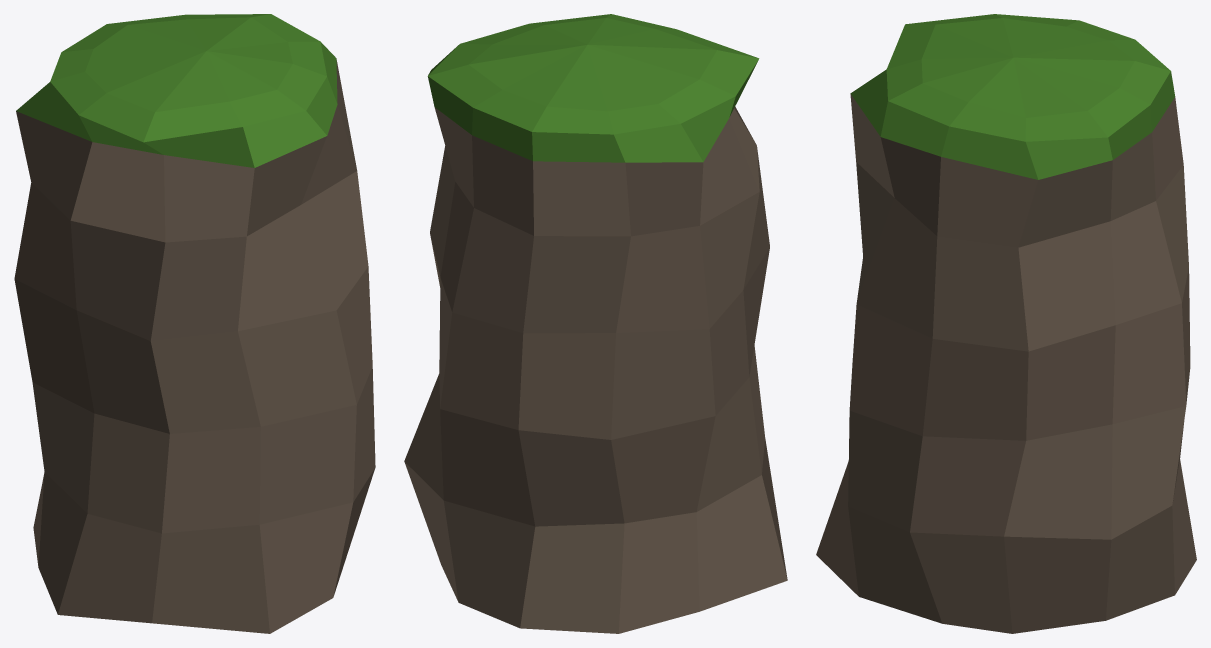
The model's file is cliff.fbx.
The picture shows the model from 3 angles, left to right: view 1: azimuth 30°, elevation 25°; view 2: azimuth 150°, elevation 25°; view 3: azimuth 270°, elevation 25°; orthographic projection.
Visible parts, largest first — view 1: Cliff; view 2: Cliff; view 3: Cliff.
Boxes of the visible parts, <box> form: Cliff: <box>14,14,375,633</box>; Cliff: <box>404,14,787,633</box>; Cliff: <box>816,14,1196,633</box>.
Size of the model in its own units: 6.3 by 9.45 by 6.35.
